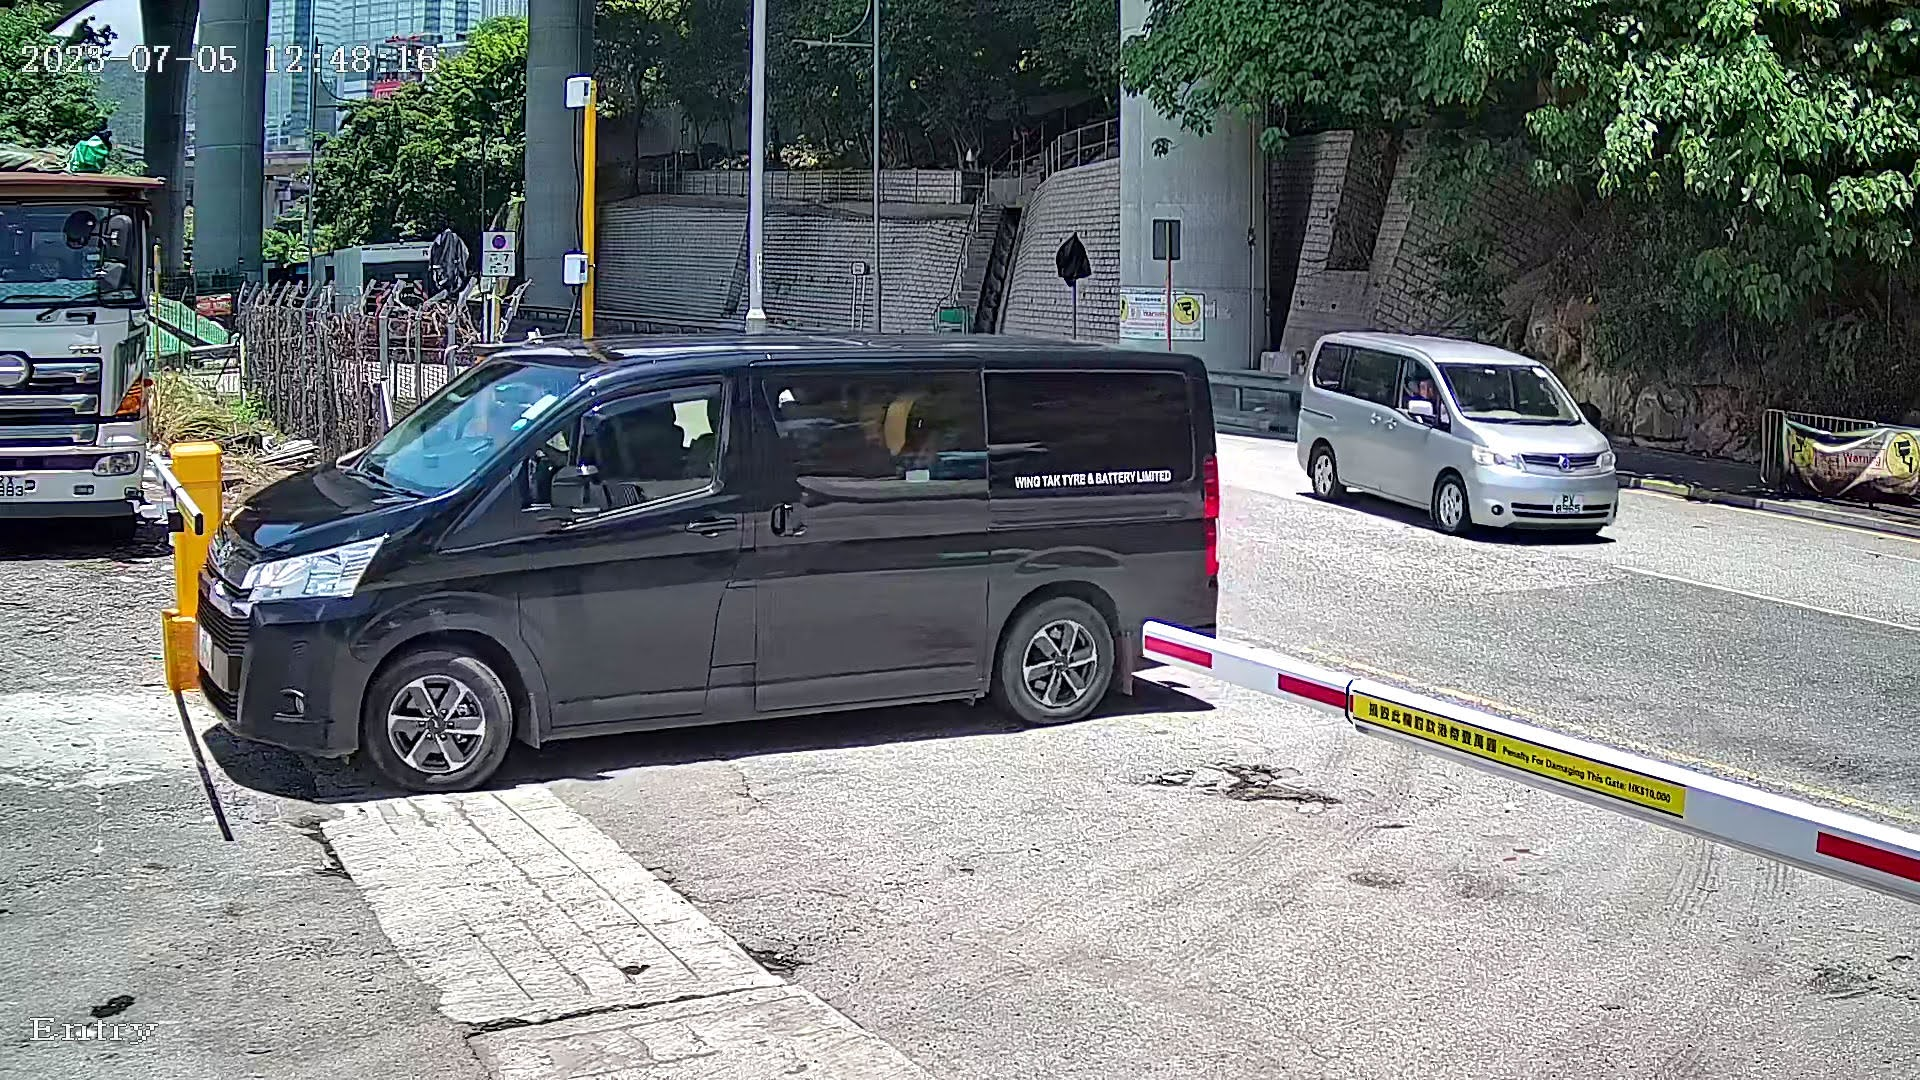privatecar: (169, 299, 1302, 837)
